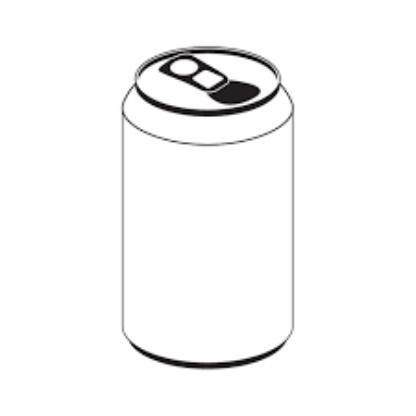Lid_Open: (159, 44, 265, 116)
Tin_Can: (118, 40, 300, 376)
